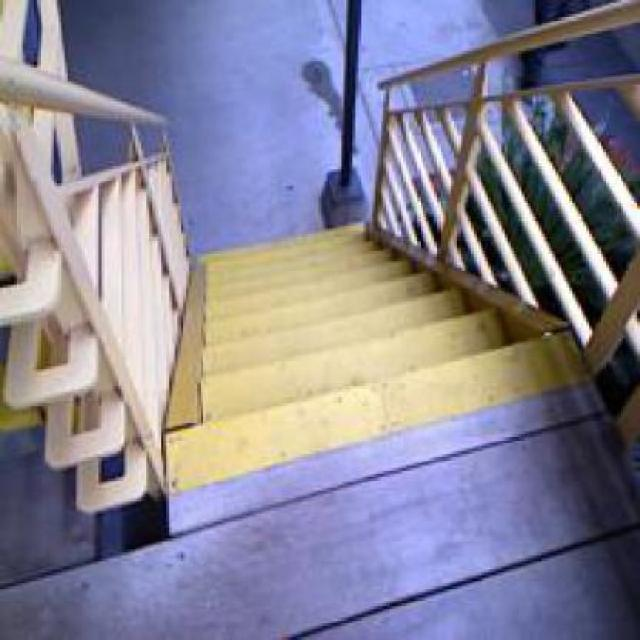stair: (155, 332, 600, 522)
